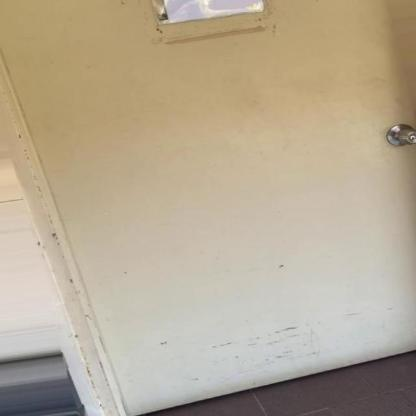door: (9, 1, 416, 401)
